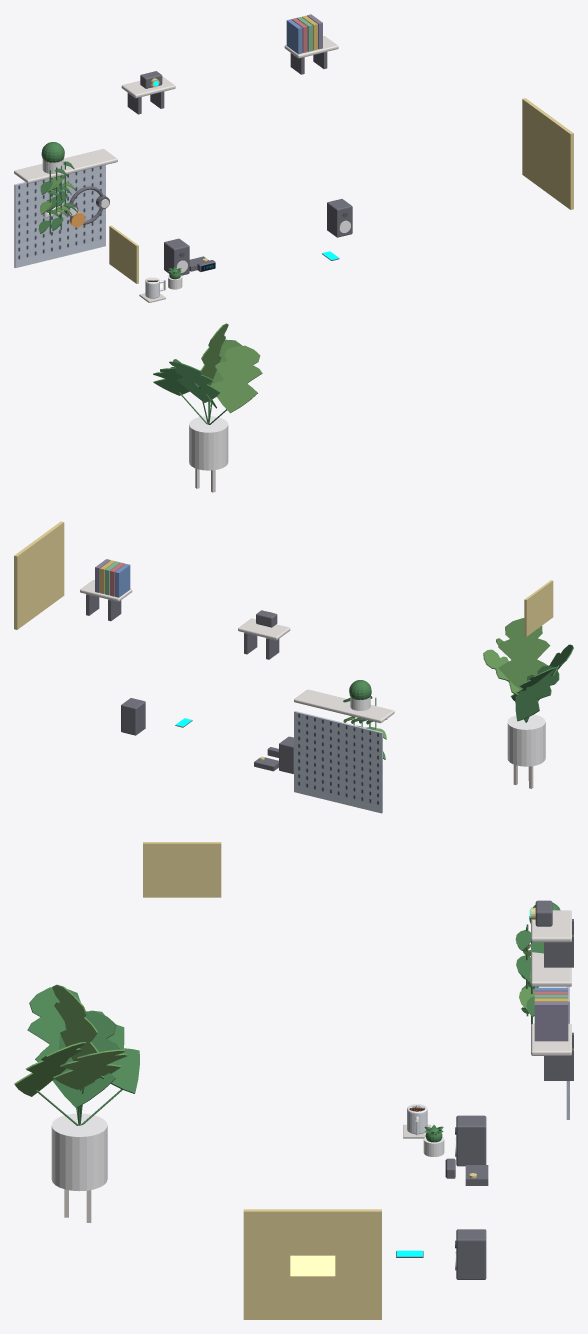
File: group-b-props.glb
The picture shows the model from 3 angles, top to bottom: view 1: azimuth 30°, elevation 25°; view 2: azimuth 150°, elevation 25°; view 3: azimuth 270°, elevation 25°; orthographic projection. The views are drawn at different scales.
Visible parts, largest first — view 1: pegboard_panel, painting_frame, monstera_leaf_6, pot_monstera, shelf_rear_lower, certificate_frame, monstera_leaf_3, speaker_right_cabinet, monstera_leaf_4, speaker_left_cabinet; view 2: pegboard_panel, painting_frame, monstera_leaf_4, pot_monstera, shelf_rear_lower, certificate_frame, monstera_leaf_5, speaker_right_cabinet, shelf_rear_upper, monstera_leaf_2, speaker_left_cabinet, book_vol_1 (+1 smaller); view 3: painting_frame, certificate_frame, pot_monstera, monstera_leaf_1, monstera_leaf_4, monstera_leaf_3, monstera_leaf_2, speaker_right_cabinet, speaker_left_cabinet, monstera_leaf_6, book_vol_5, monstera_leaf_5 (+6 smaller).
Boxes of the visible parts, <box> form: pegboard_panel: <box>14,165,105,268</box>; painting_frame: <box>522,98,573,209</box>; monstera_leaf_6: <box>210,345,262,413</box>; pot_monstera: <box>189,416,228,470</box>; shelf_rear_lower: <box>14,149,117,183</box>; certificate_frame: <box>109,225,138,283</box>; monstera_leaf_3: <box>169,361,220,402</box>; speaker_right_cabinet: <box>327,199,352,237</box>; monstera_leaf_4: <box>200,323,228,385</box>; speaker_left_cabinet: <box>164,238,189,275</box>; pegboard_panel: <box>294,711,382,813</box>; painting_frame: <box>14,521,64,629</box>; monstera_leaf_4: <box>498,618,550,689</box>; pot_monstera: <box>507,714,545,766</box>; shelf_rear_lower: <box>294,689,394,723</box>; certificate_frame: <box>524,580,553,636</box>; monstera_leaf_5: <box>515,665,559,721</box>; speaker_right_cabinet: <box>121,698,145,735</box>; shelf_rear_upper: <box>238,618,290,640</box>; monstera_leaf_2: <box>483,649,520,695</box>; speaker_left_cabinet: <box>279,736,293,773</box>; book_vol_1: <box>114,564,130,597</box>; painting_frame: <box>243,1209,381,1319</box>; certificate_frame: <box>143,842,221,897</box>; pot_monstera: <box>51,1113,107,1191</box>; monstera_leaf_1: <box>52,1011,120,1108</box>; monstera_leaf_4: <box>52,984,98,1061</box>; monstera_leaf_3: <box>27,987,88,1061</box>; monstera_leaf_2: <box>53,1049,128,1089</box>; speaker_right_cabinet: <box>456,1229,486,1279</box>; speaker_left_cabinet: <box>456,1115,486,1166</box>; monstera_leaf_6: <box>14,1042,85,1096</box>; book_vol_5: <box>534,1002,568,1041</box>; monstera_leaf_5: <box>88,1010,139,1093</box>.
Size of the model in its own units: 4.18 by 2.38 by 3.
Materials: 24 (3 with a texture image).
